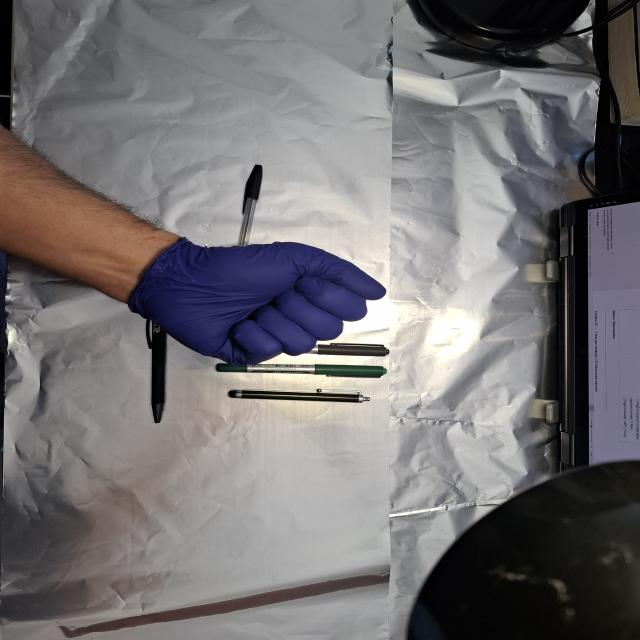glove_on: (125, 235, 390, 368)
